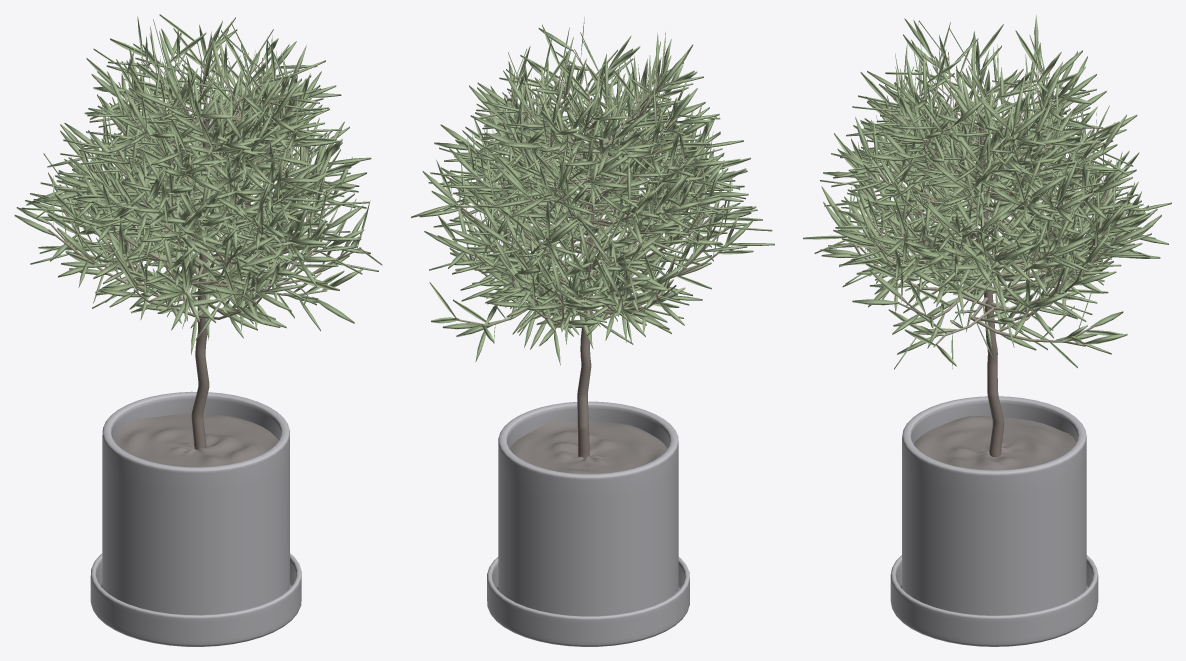
File: decorativePlant.glb
3 views of the same model, side by side, from view 1: azimuth 30°, elevation 25°; view 2: azimuth 150°, elevation 25°; view 3: azimuth 270°, elevation 25° (orthographic). The views are drawn at different scales.
Visible parts, largest first — view 1: leaves, Pot_Untitled.003, tree_Mesh, Ground_Untitled.004; view 2: leaves, Pot_Untitled.003, tree_Mesh, Ground_Untitled.004; view 3: leaves, Pot_Untitled.003, tree_Mesh, Ground_Untitled.004.
Boxes of the visible parts, left/top/right/bottom form: leaves: left=14, top=14, right=382, bottom=354; Pot_Untitled.003: left=90, top=391, right=301, bottom=646; tree_Mesh: left=48, top=41, right=361, bottom=449; Ground_Untitled.004: left=114, top=413, right=278, bottom=467; leaves: left=411, top=16, right=774, bottom=365; Pot_Untitled.003: left=487, top=401, right=689, bottom=646; tree_Mesh: left=451, top=49, right=732, bottom=458; Ground_Untitled.004: left=509, top=420, right=667, bottom=473; leaves: left=803, top=14, right=1171, bottom=369; Pot_Untitled.003: left=890, top=396, right=1098, bottom=646; tree_Mesh: left=849, top=52, right=1129, bottom=457; Ground_Untitled.004: left=913, top=416, right=1075, bottom=470.
Bounding box in the file's own units: 0.559 × 1.03 × 0.6021.
